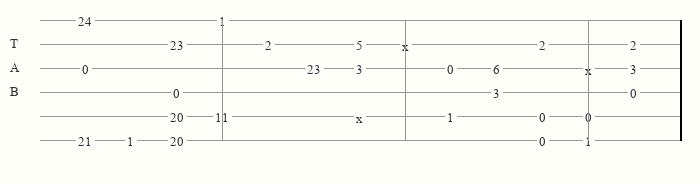0: (82, 62, 93, 75), (173, 86, 184, 99), (447, 62, 458, 75), (539, 110, 550, 123), (539, 134, 550, 147), (585, 110, 596, 123), (630, 86, 641, 99)
1: (127, 134, 138, 147), (219, 14, 230, 27), (447, 110, 458, 123), (585, 134, 596, 147)
11: (215, 110, 233, 123)
2: (265, 38, 276, 51), (539, 38, 550, 51), (630, 38, 641, 51)
20: (170, 134, 188, 147), (170, 110, 188, 123)
21: (78, 134, 96, 147)
23: (170, 38, 188, 51), (307, 62, 325, 75)
24: (78, 14, 96, 27)
3: (356, 62, 367, 75), (493, 86, 504, 99), (630, 62, 641, 75)
5: (356, 38, 367, 51)
6: (493, 62, 504, 75)
x: (356, 111, 367, 121), (402, 39, 413, 49), (585, 63, 596, 73)
